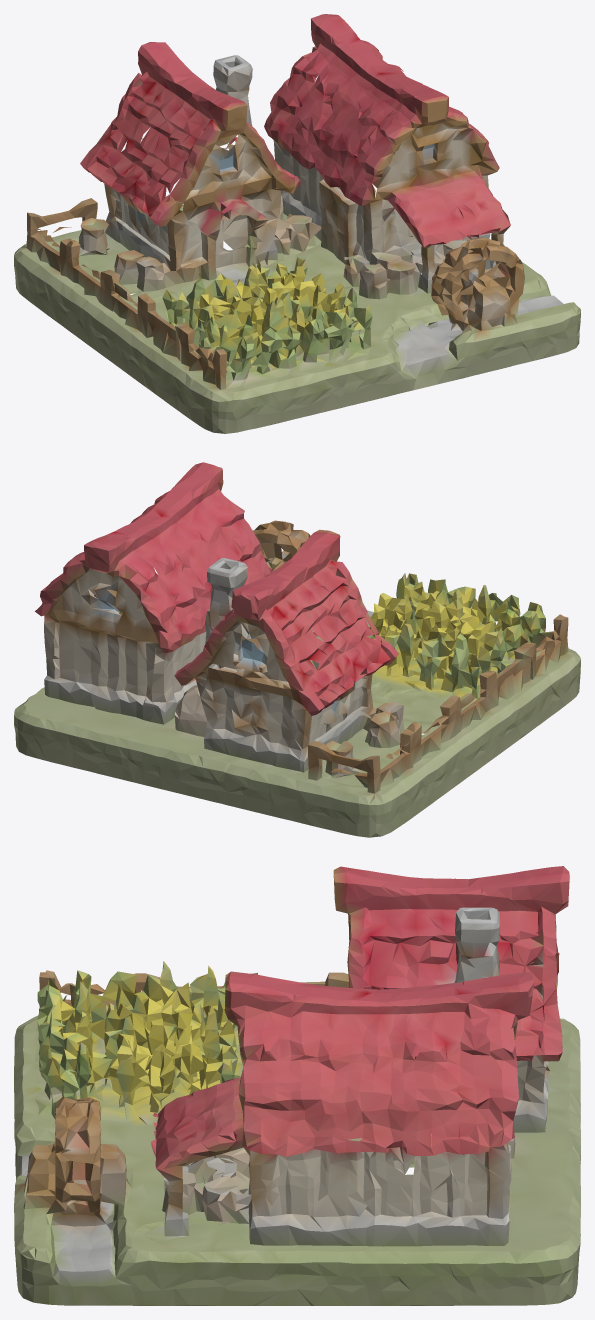
The model's file is building_farm_lod1.glb.
The picture shows the model from 3 angles, top to bottom: view 1: azimuth 30°, elevation 25°; view 2: azimuth 150°, elevation 25°; view 3: azimuth 270°, elevation 25°; orthographic projection. The views are drawn at different scales.
Parts seen in each view (by area): view 1: world; view 2: world; view 3: world.
Part boxes in pixels (box(x1,y1,x2,y2)): world: box(14, 14, 580, 433); world: box(14, 462, 580, 837); world: box(14, 866, 580, 1305).
Size of the model in its own units: 1.9 by 1.02 by 1.85.
